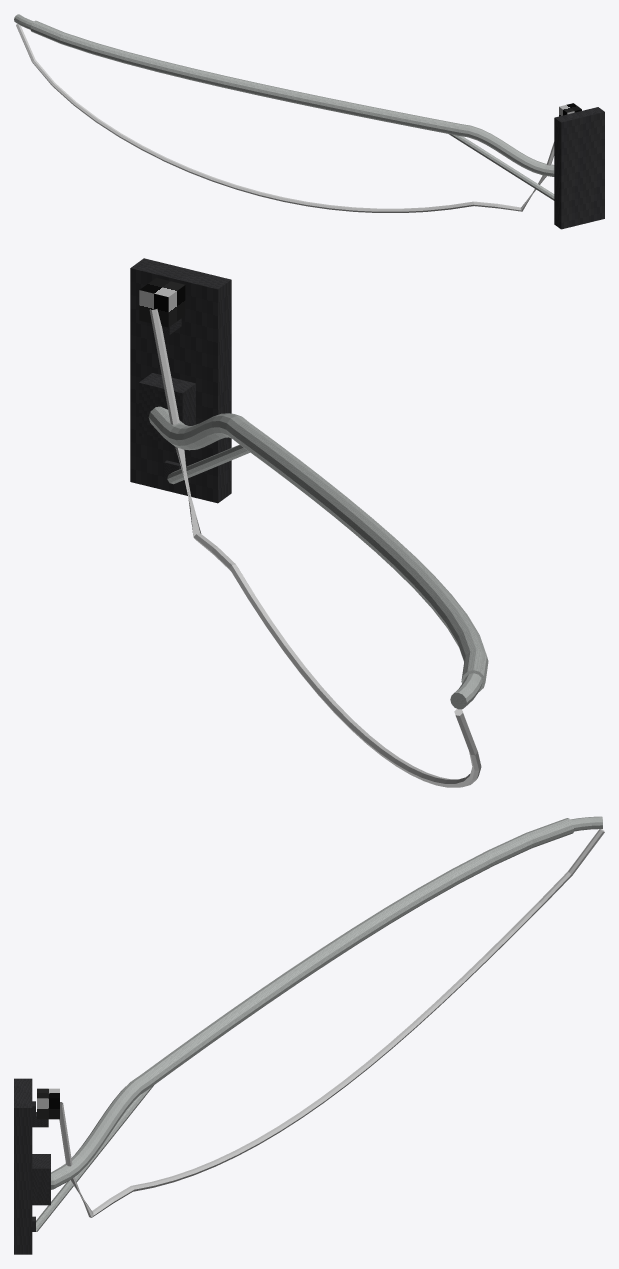
The model's file is arm_4_left_wired.obj.
The picture shows the model from 3 angles, top to bottom: view 1: azimuth 30°, elevation 25°; view 2: azimuth 150°, elevation 25°; view 3: azimuth 270°, elevation 25°; orthographic projection. The views are drawn at different scales.
Parts seen in each view (by area): view 1: pole_light_mount_4_left_wired; view 2: pole_light_mount_4_left_wired; view 3: pole_light_mount_4_left_wired.
Boxes of the visible parts, <box> form: pole_light_mount_4_left_wired: <box>14,14,604,229</box>; pole_light_mount_4_left_wired: <box>130,258,488,787</box>; pole_light_mount_4_left_wired: <box>14,816,604,1254</box>.
Bounding box in the file's own units: 3.22 × 1.23 × 3.2.
